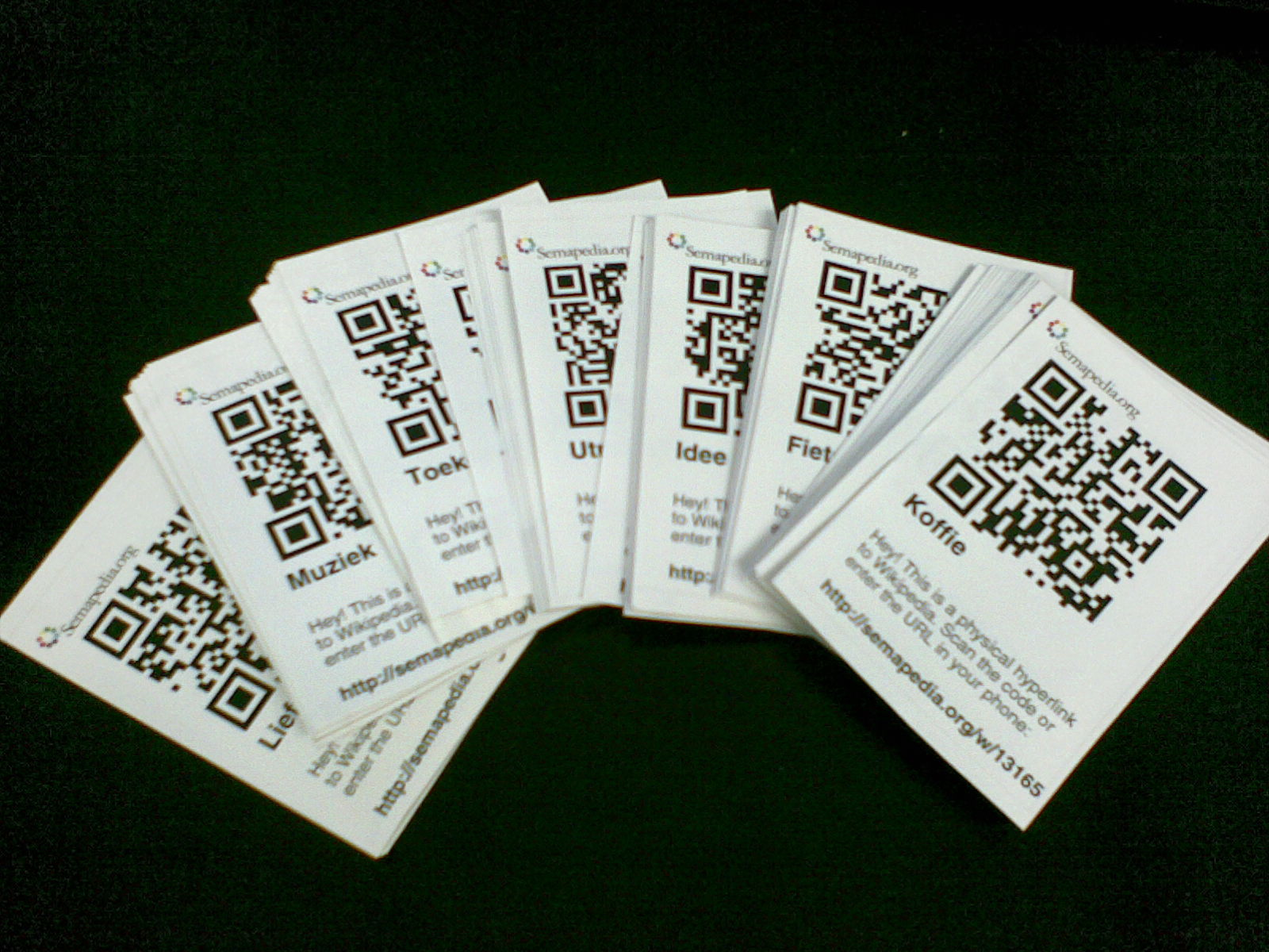QR-CODE: (927, 359, 1209, 625), (84, 506, 274, 732), (211, 378, 373, 562), (796, 259, 947, 434), (337, 286, 457, 459), (681, 265, 769, 435), (542, 262, 627, 428)
